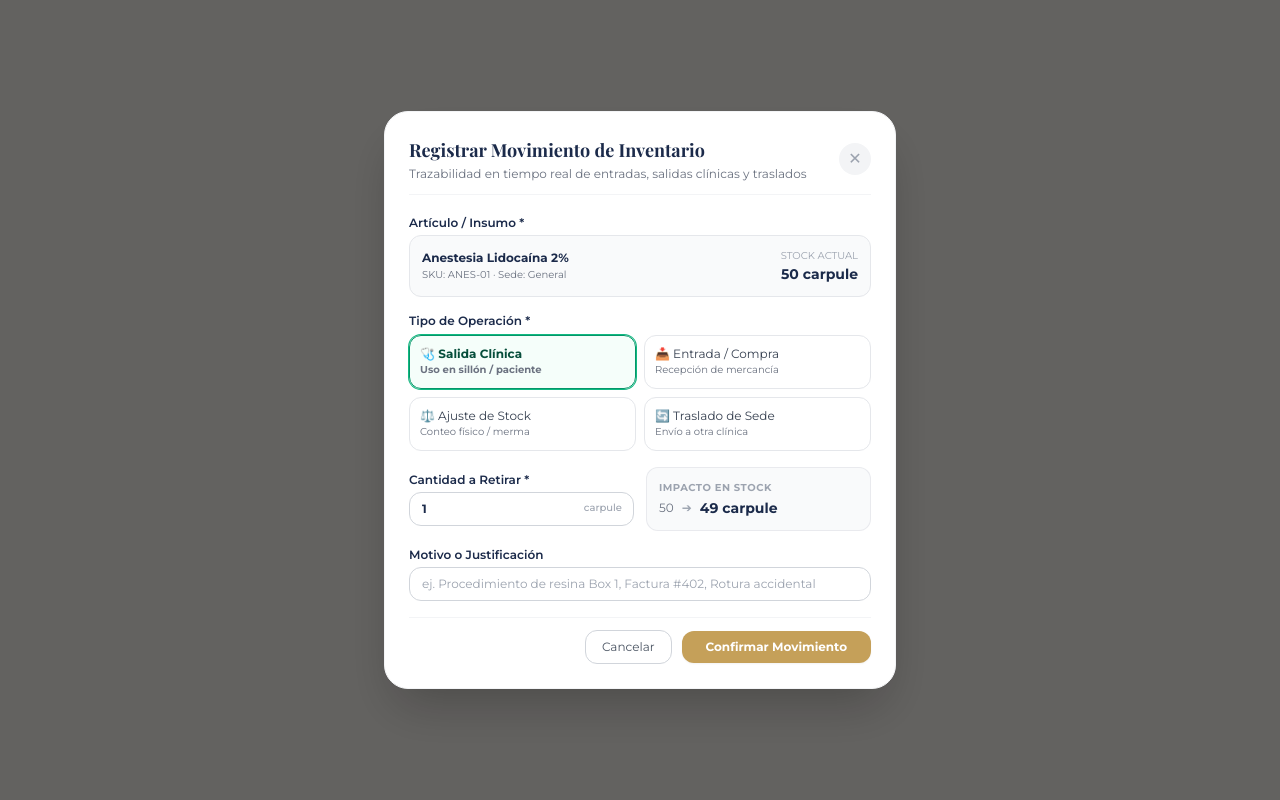
InventoryMovementModal › prevents submitting when quantity exceeds stock for clinical exit
Attempt to withdraw 60 when available is 50
Step 1. Replace the text in the number field with "60" → (522, 509), box [409, 492, 634, 526]
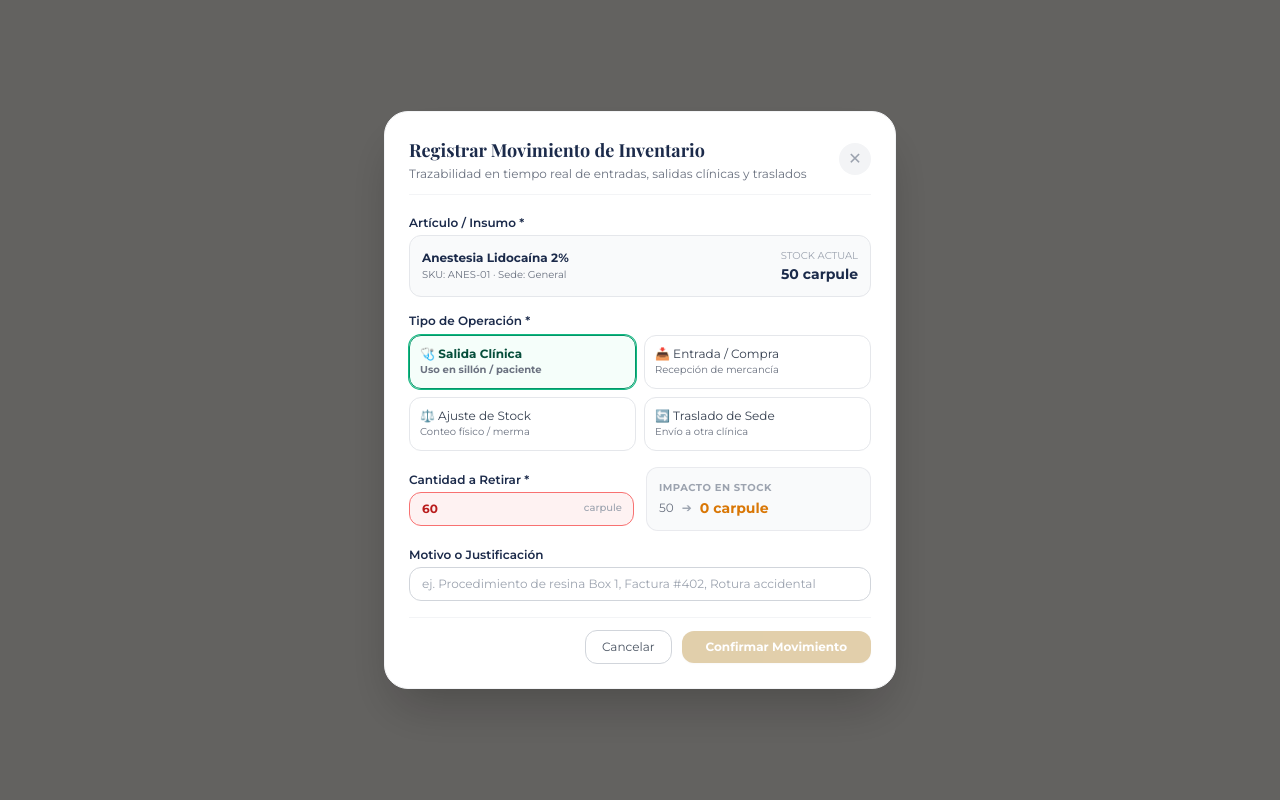
Expected: the button "Confirmar Movimiento" is disabled, [682, 631, 871, 663]
